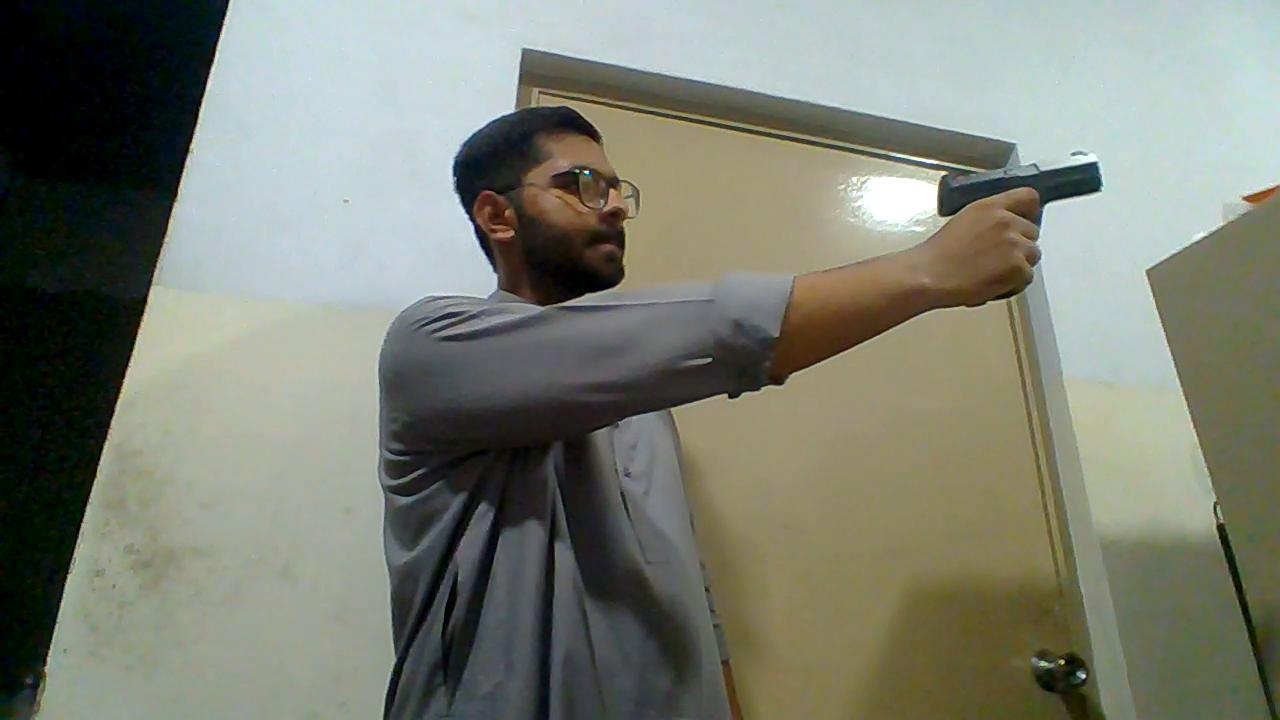criminal: (369, 102, 1106, 720)
weapon: (934, 149, 1104, 247)
